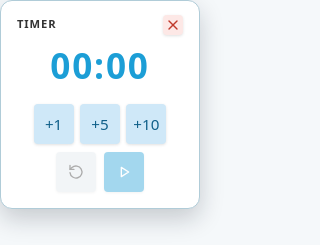
Test case: FateTimer › continues countdown from paused value
The image size is (320, 245).
Click the button "+1" at (54, 124), box [34, 104, 74, 144]
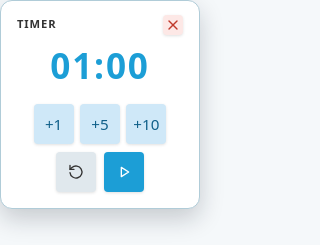
Click the button named "Timer starten" at (124, 172), box [104, 152, 144, 192]
Wait 2000 ms
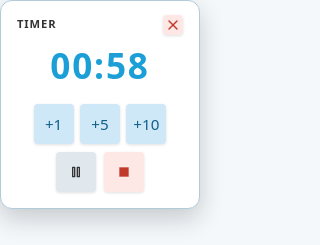
Click the button named "Timer pausieren" at (76, 172), box [56, 152, 96, 192]
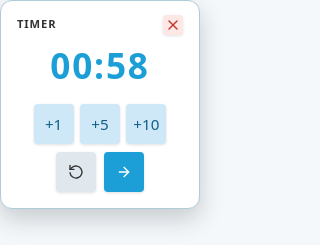
Result: the text "00:58" is shown at [50, 41, 150, 89]
Click the button named "Timer fortsetzen" at (124, 172), box [104, 152, 144, 192]
Wait 1000 ms
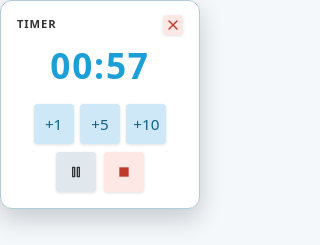
Result: the text "00:57" is shown at [50, 41, 150, 89]
